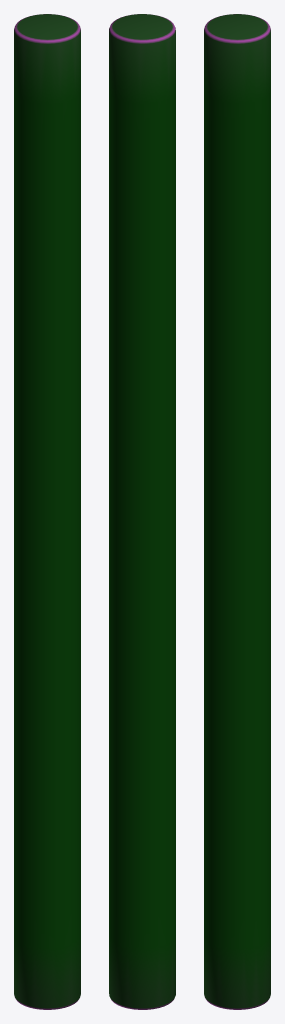
File: rounded_pillar_01.fbx
3 renders of one model, left to right at view 1: azimuth 90°, elevation 25°; view 2: azimuth 210°, elevation 25°; view 3: azimuth 270°, elevation 25°, orthographic.
Visible parts, largest first — view 1: rounded_pillar_01; view 2: rounded_pillar_01; view 3: rounded_pillar_01.
Part boxes in pixels (x1,y1,x2,y2): rounded_pillar_01: [14, 14, 80, 1009]; rounded_pillar_01: [109, 14, 175, 1009]; rounded_pillar_01: [204, 14, 270, 1009].
Bounding box in the file's own units: 0.1 × 1.6 × 0.1.
